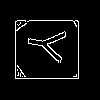Y: (25, 25, 76, 66)
